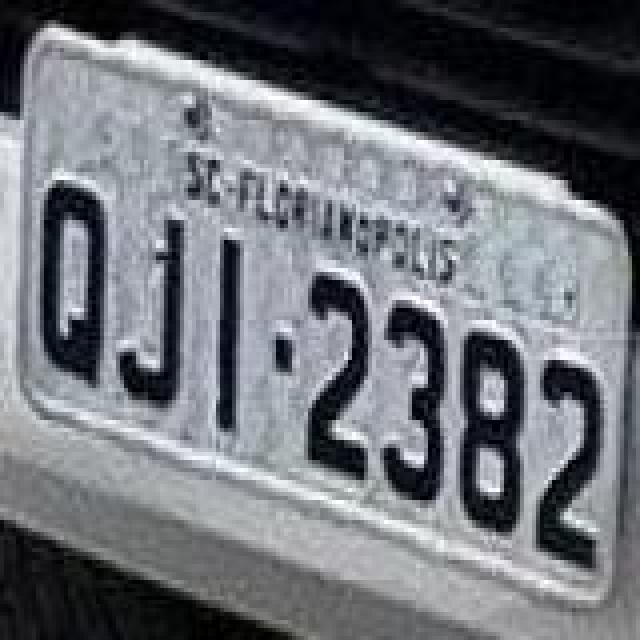1: (212, 232, 244, 440)
2: (532, 358, 604, 570), (306, 268, 374, 484)
3: (380, 298, 452, 510)
8: (456, 324, 528, 540)
J: (116, 216, 188, 408)
Q: (36, 178, 108, 390)
